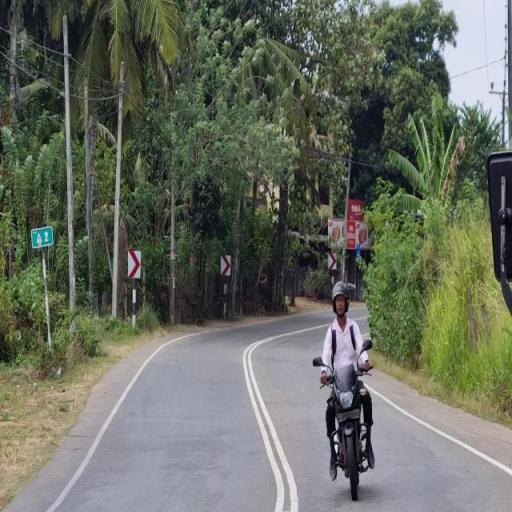double_white_line: (242, 329, 295, 512)
